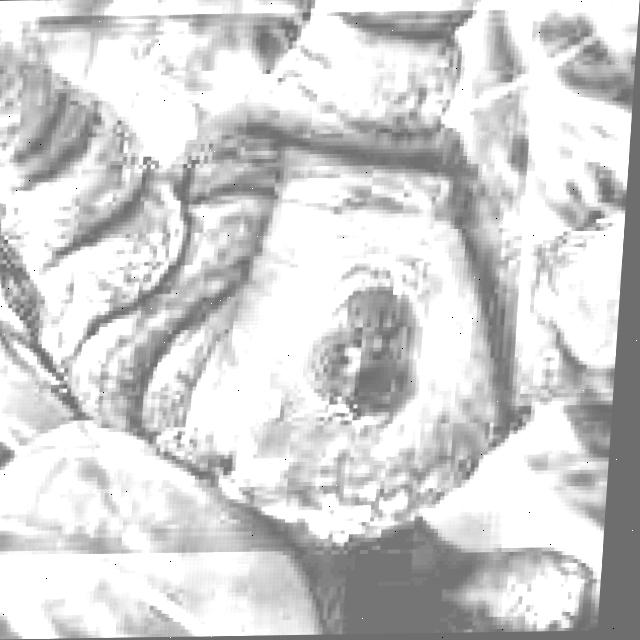Bumble foot: (166, 189, 564, 553)
